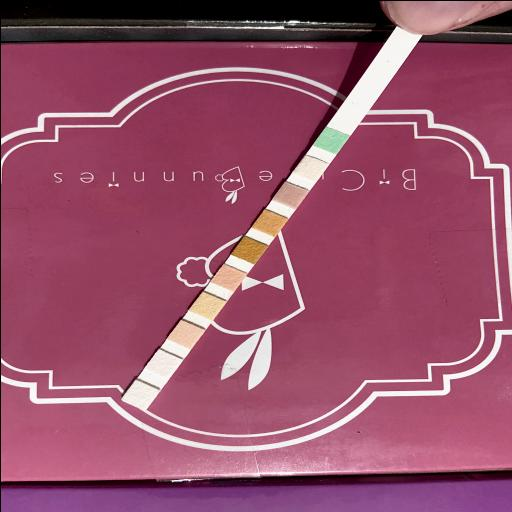Bilirubin: (300, 160, 320, 175)
Blood: (238, 242, 260, 256)
Glucose: (320, 132, 340, 148)
Ketone: (280, 188, 300, 202)
Leukocytes: (128, 388, 152, 400)
Nitrite: (152, 356, 174, 370)
Protein: (196, 298, 218, 312)
SpGravity: (258, 216, 280, 228)
Urobilinogen: (174, 327, 196, 340)
pH: (217, 270, 239, 284)
strip: (120, 35, 415, 410)
